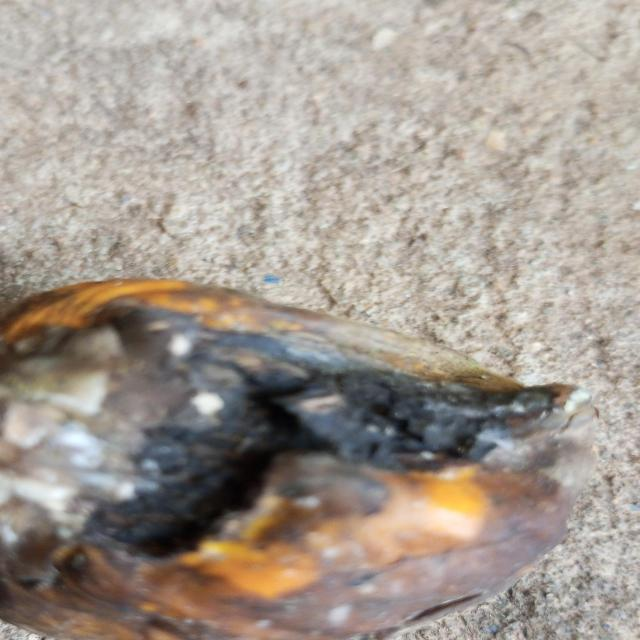damaged: (0, 279, 597, 640)
